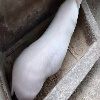heo: (8, 1, 80, 97)
